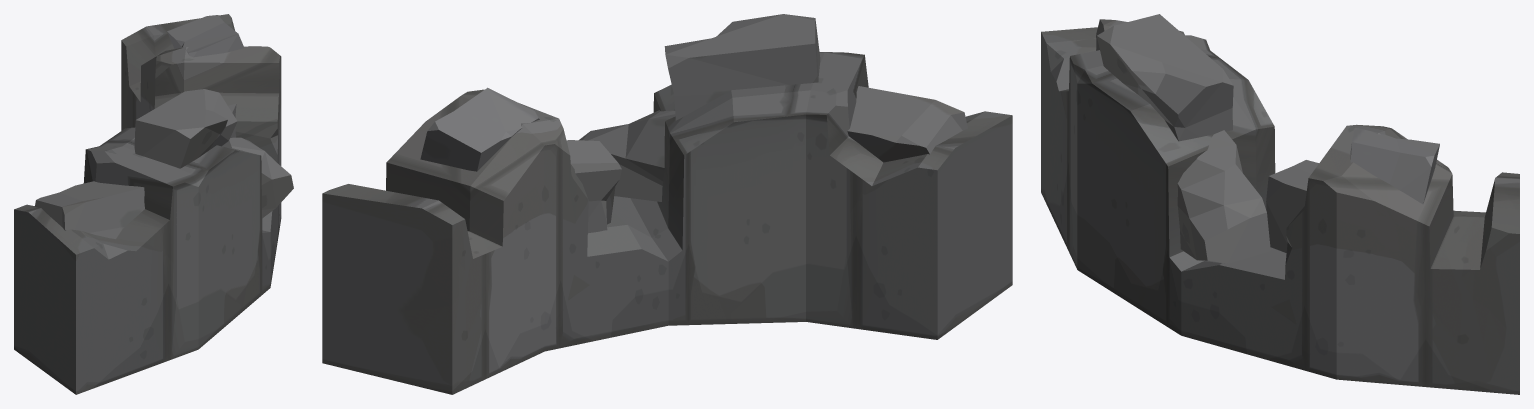
Rendered from SM_Bld_Wall_L_Curve_Half_Damaged_03.fbx.
3 views of the same model, side by side, from view 1: azimuth 30°, elevation 25°; view 2: azimuth 150°, elevation 25°; view 3: azimuth 270°, elevation 25° (orthographic). The views are drawn at different scales.
Visible parts, largest first — view 1: SM_Bld_Wall_L_Curve_Half_Damaged_03; view 2: SM_Bld_Wall_L_Curve_Half_Damaged_03; view 3: SM_Bld_Wall_L_Curve_Half_Damaged_03.
Part boxes in pixels (x1,y1,x2,y2): SM_Bld_Wall_L_Curve_Half_Damaged_03: (14,14,293,394); SM_Bld_Wall_L_Curve_Half_Damaged_03: (322,14,1012,394); SM_Bld_Wall_L_Curve_Half_Damaged_03: (1041,14,1519,394).
Size of the model in its own units: 324 by 180 by 324.
